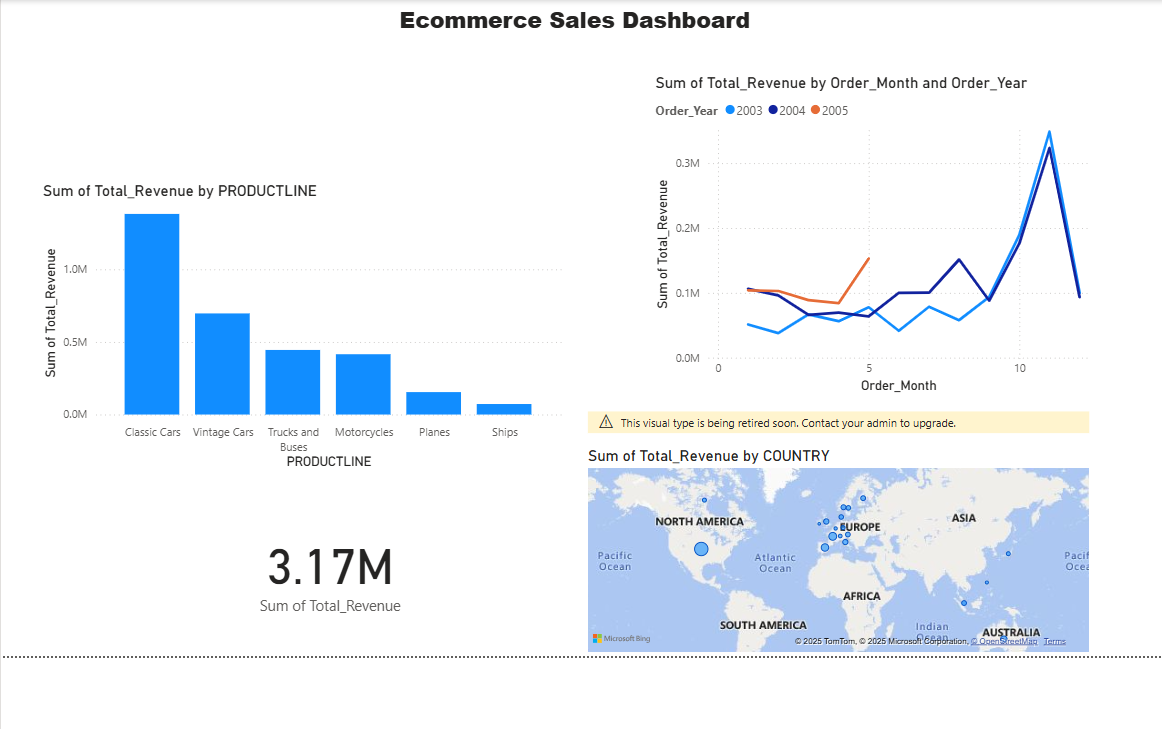

This screenshot's page, from the dashboard's own definition file:
{"tool":"powerbi","page":{"name":"Page 1","canvas":[1280,720],"ordinal":0},"visuals":[{"type":"clusteredColumnChart","fields":{"Category":["ecommerce_sales_final.PRODUCTLINE"],"Y":["Sum(ecommerce_sales_final.Total_Revenue)"]},"box":[41.2,199,579.1,321.1],"z":2000},{"type":"lineChart","fields":{"Category":["ecommerce_sales_final.Order_Month"],"Y":["Sum(ecommerce_sales_final.Total_Revenue)"],"Series":["ecommerce_sales_final.Order_Year"]},"box":[713.6,81,485.8,355.4],"z":3000},{"type":"map","fields":{"Category":["ecommerce_sales_final.COUNTRY"],"Size":["Sum(ecommerce_sales_final.Total_Revenue)"]},"box":[639.5,451.5,559.9,269],"z":3001},{"type":"textbox","box":[340.3,0,579.1,65.9],"z":3002},{"type":"card","fields":{"Values":["Sum(ecommerce_sales_final.Total_Revenue)"]},"box":[260.7,551.6,201.7,149.6],"z":3003}]}

Visuals, with their boxes on the page's 1280x720 design canvas (x1, y1, x2, y2). These are canvas units, not pixel positions in the 1162x729 screenshot, which may show the page scaled, cropped or inside an application window:
clusteredColumnChart - ecommerce_sales_final.PRODUCTLINE x Sum(ecommerce_sales_final.Total_Revenue): 41 199 620 520
lineChart - ecommerce_sales_final.Order_Month x Sum(ecommerce_sales_final.Total_Revenue): 714 81 1199 436
map - ecommerce_sales_final.COUNTRY x Sum(ecommerce_sales_final.Total_Revenue): 640 452 1199 720
textbox: 340 0 919 66
card - Sum(ecommerce_sales_final.Total_Revenue): 261 552 462 701
